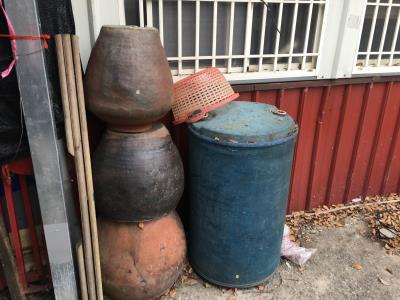bowl: (82, 23, 176, 135), (91, 122, 185, 226), (95, 208, 190, 300)
bucket: (182, 98, 302, 292)
